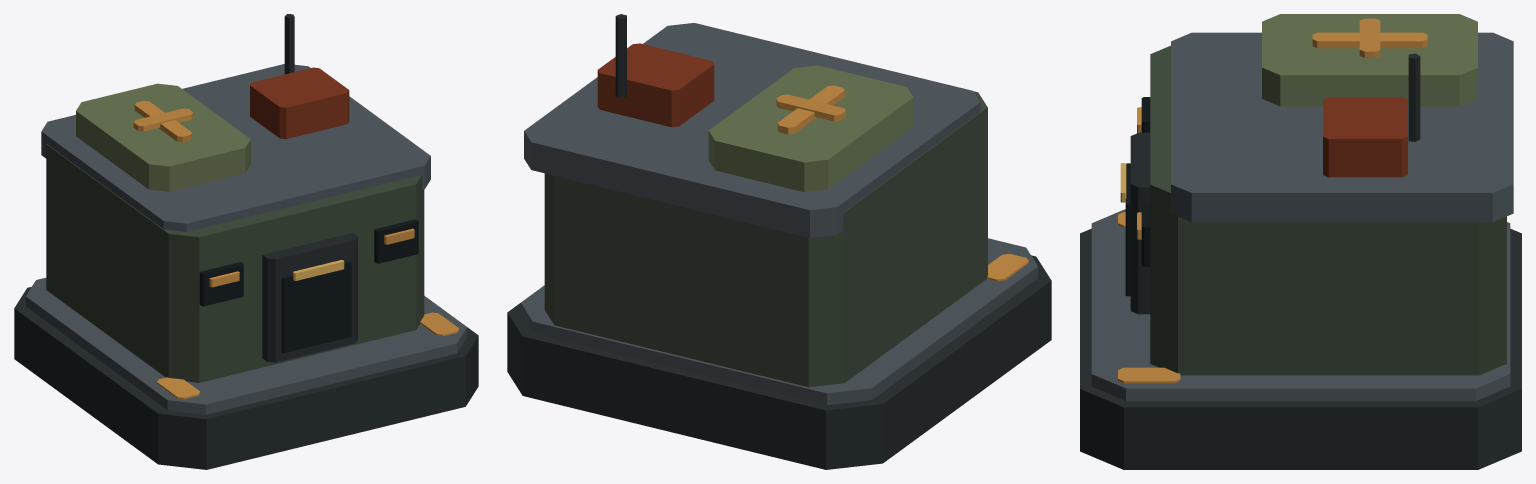
The model's file is barracks.glb.
The picture shows the model from 3 angles, left to right: view 1: azimuth 30°, elevation 25°; view 2: azimuth 150°, elevation 25°; view 3: azimuth 270°, elevation 25°; orthographic projection. The views are drawn at different scales.
Visible parts, largest first — view 1: barracks; view 2: barracks; view 3: barracks.
Part boxes in pixels (<box>): barracks: <box>14,14,478,469</box>; barracks: <box>507,14,1051,469</box>; barracks: <box>1080,14,1521,469</box>.
Bounding box in the file's own units: 1.98 × 1.78 × 1.92.
